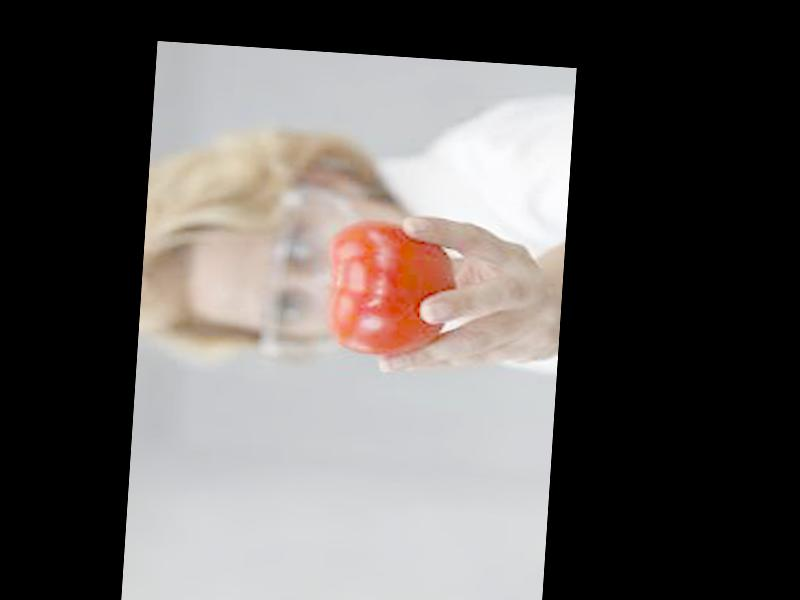Tomato: (325, 214, 456, 358)
